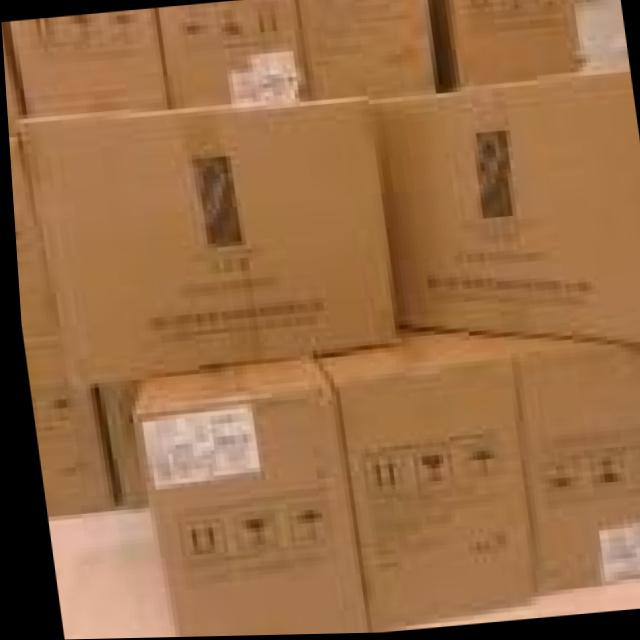box: (21, 93, 392, 386), (362, 70, 640, 352), (123, 360, 363, 638), (312, 331, 530, 634), (511, 338, 640, 598), (5, 8, 170, 114), (154, 0, 314, 105), (18, 331, 107, 517), (299, 0, 446, 101), (435, 0, 586, 90), (7, 132, 52, 334), (88, 383, 141, 506), (1, 21, 25, 133)
